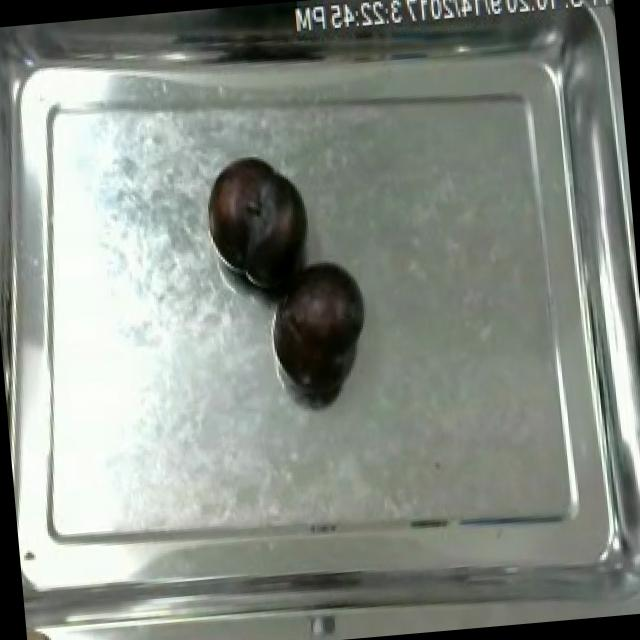Fruit: (200, 147, 318, 302), (271, 253, 376, 398), (25, 617, 63, 640)
